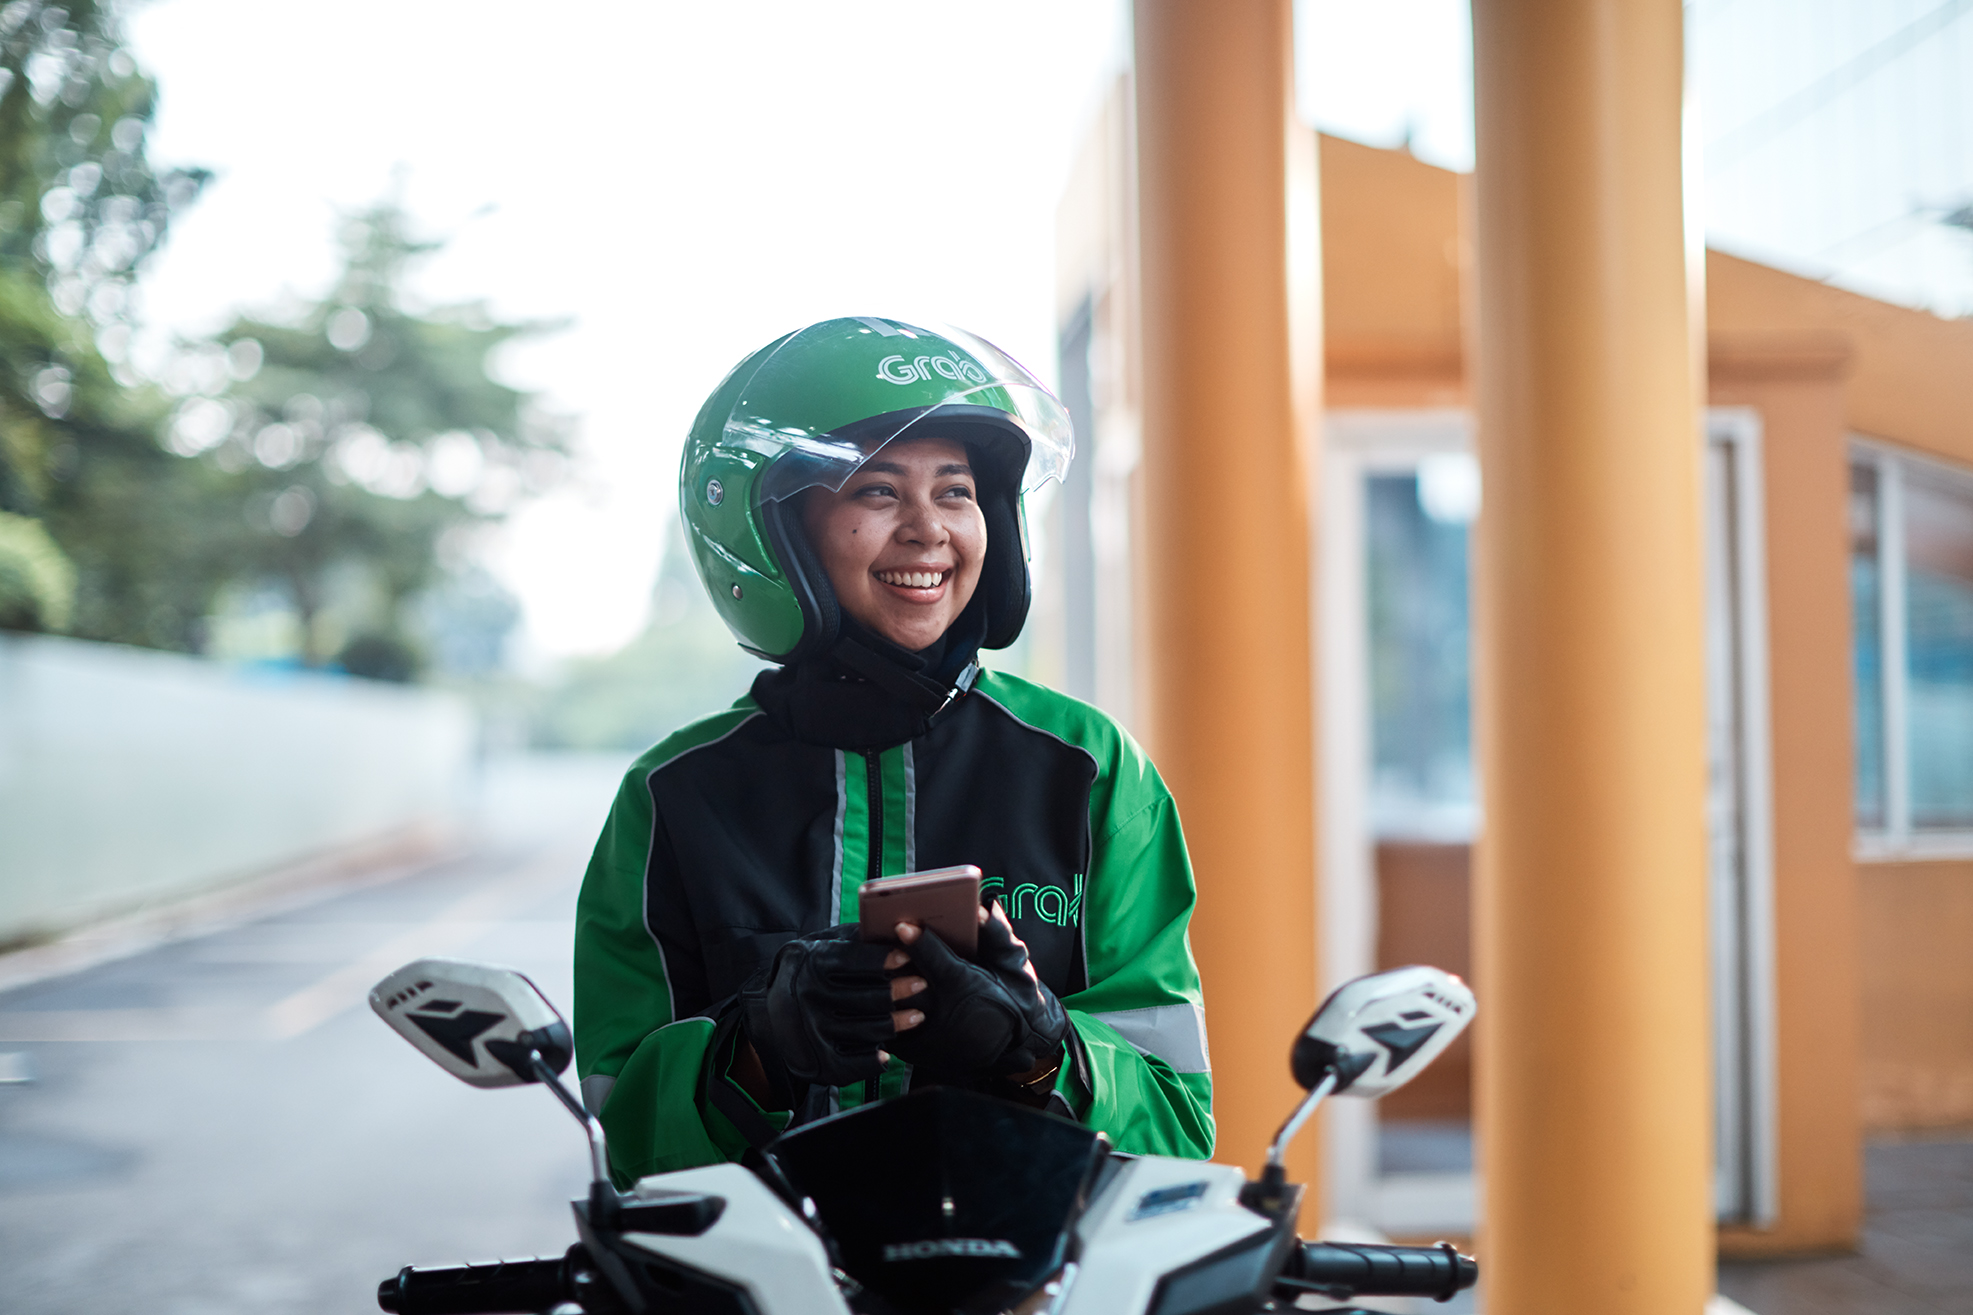dieu khien xe may: (576, 313, 1240, 1315)
su dung dien thoai: (687, 316, 1036, 1080)
